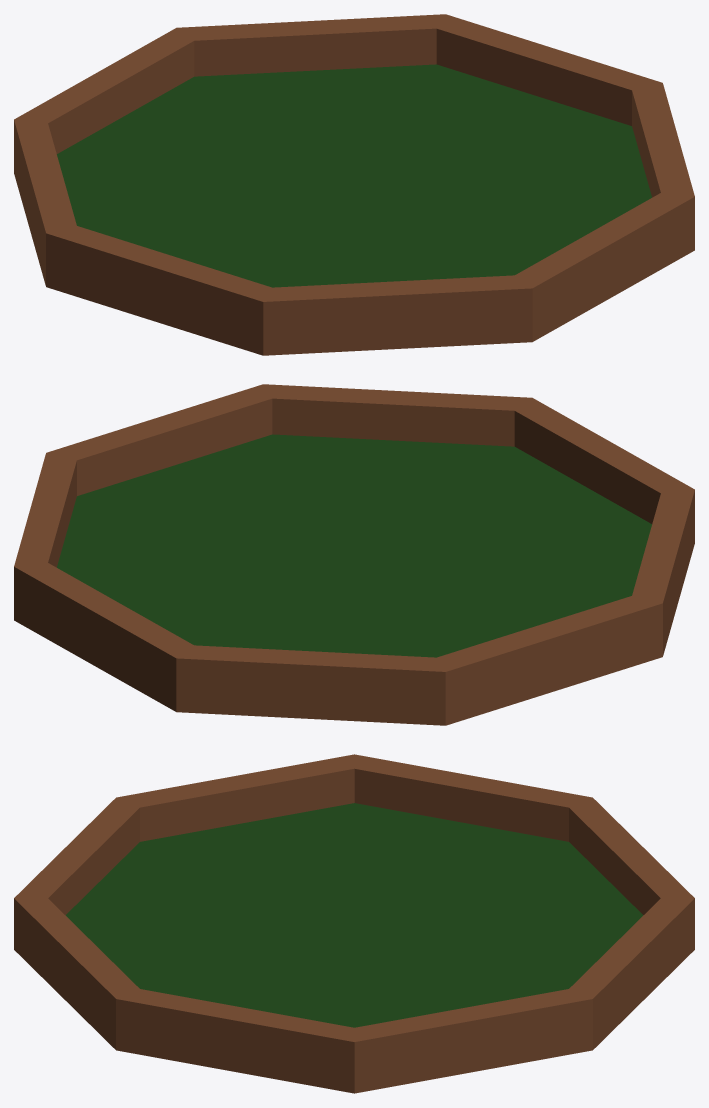
File: GrassCircleBrown.obj
3 renders of one model, top to bottom at view 1: azimuth 30°, elevation 25°; view 2: azimuth 150°, elevation 25°; view 3: azimuth 270°, elevation 25°, orthographic. The views are drawn at different scales.
Visible parts, largest first — view 1: trawka.001; view 2: trawka.001; view 3: trawka.001.
Part boxes in pixels (bbox=[...]): trawka.001: bbox=[14, 14, 694, 355]; trawka.001: bbox=[14, 384, 694, 725]; trawka.001: bbox=[14, 754, 694, 1093].
Size of the model in its own units: 7.2 by 0.6 by 7.2.
